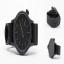watch: (5, 9, 39, 56), (45, 37, 64, 61), (46, 5, 63, 30)
